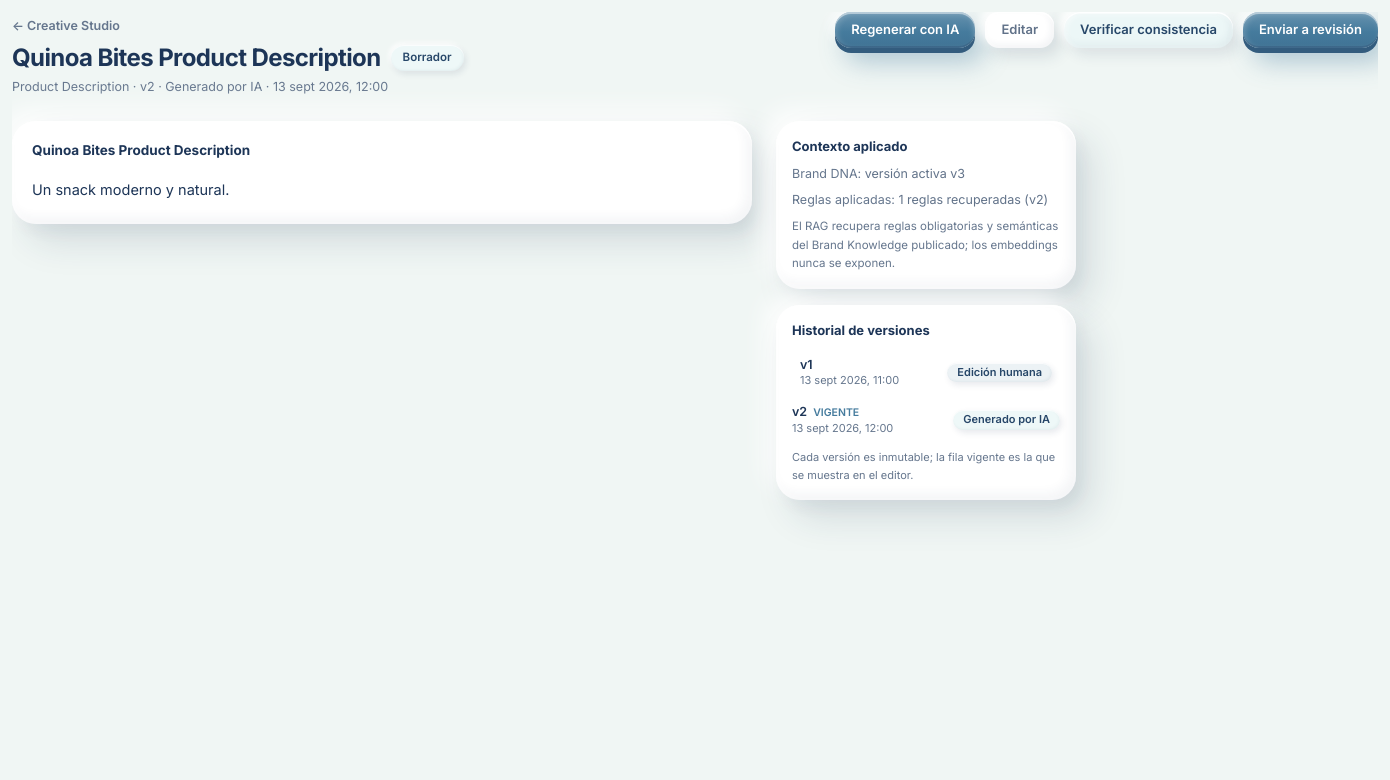
Test: CreativeItemPage (estados de error por envelope) › presenta el 409 INVALID_WORKFLOW_TRANSITION al enviar desde un estado no autorable
The image size is (1390, 780).
Expected: the text "Un snack moderno y natural." is shown, [32,181,229,198]
Expected: the text "Edición humana" is shown, [947,362,1052,382]
What coordinates should you click on to do the following:
click the button "Enviar a revisión"
I would click on:
 (1310, 30)
Its box is [1243,12,1378,48].
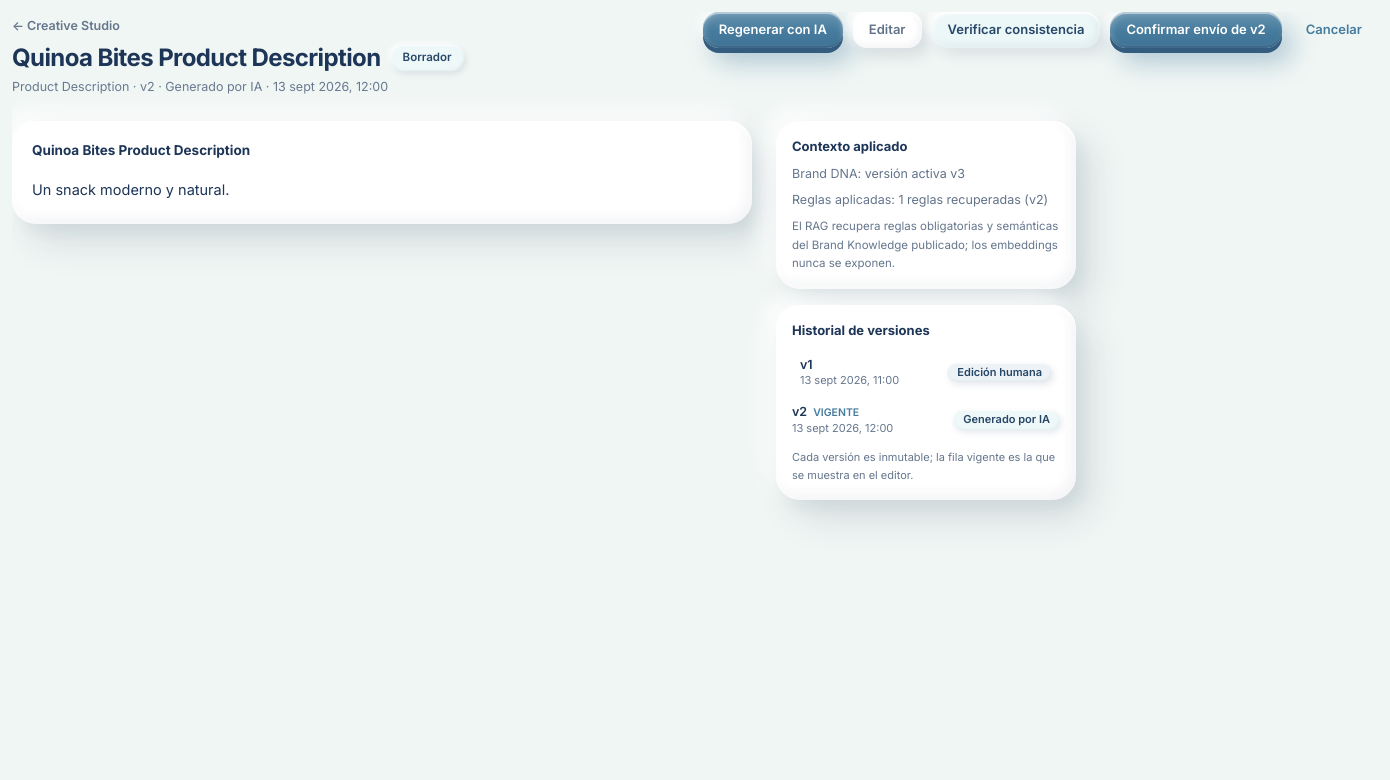
What coordinates should you click on to do the following:
click the button "Confirmar envío de v2"
I would click on:
 (1196, 30)
Its box is [1110,12,1282,48].
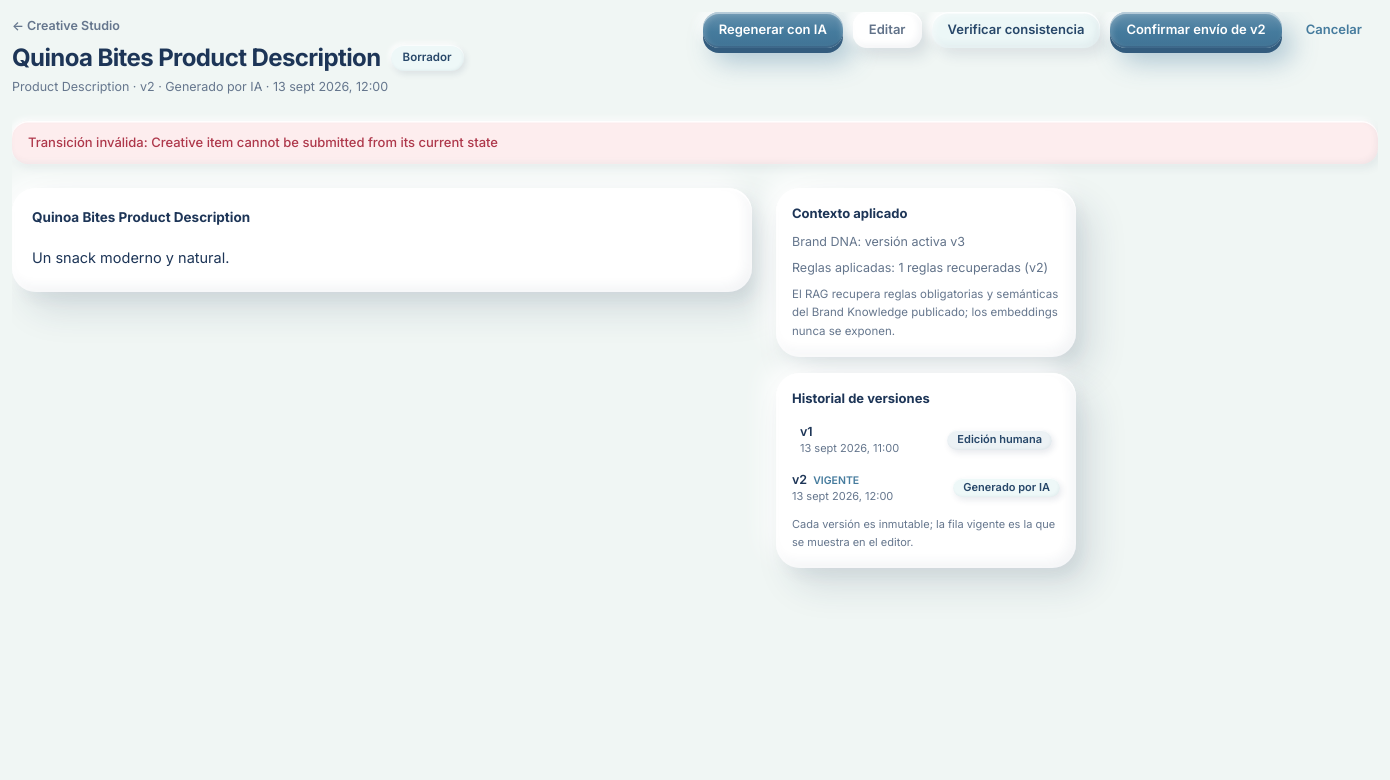
Now the text "Transición inválida: Creative item cannot be submitted from its current state" is shown, box [12,121,1378,164]
